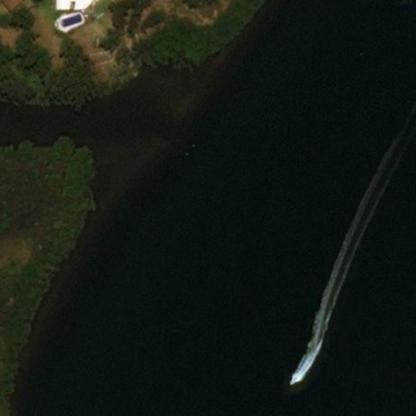ship: (281, 366, 304, 390)
